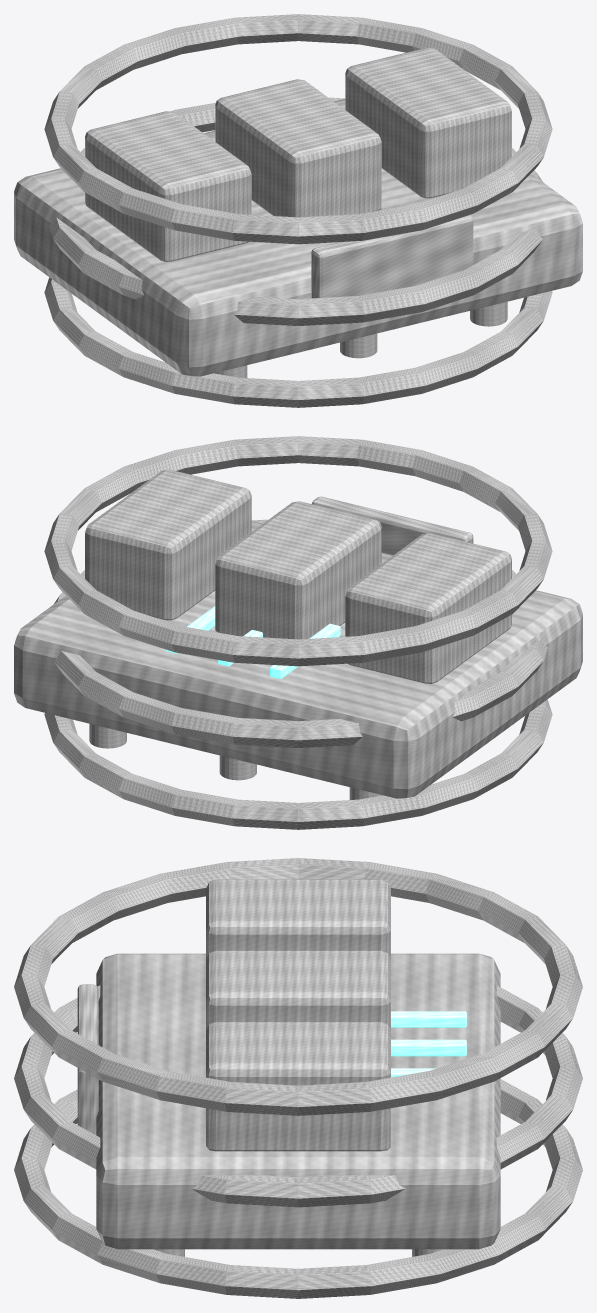
The model's file is item-biochemical-sculptor_variant_c.glb.
3 renders of one model, top to bottom at view 1: azimuth 30°, elevation 25°; view 2: azimuth 150°, elevation 25°; view 3: azimuth 270°, elevation 25°, orthographic. The views are drawn at different scales.
Visible parts, largest first — view 1: Electronics carrier.002, Variant collar.002, Electronic module.008, Electronic module.007, Variant collar, Electronic module.006, Variant collar.001, Circuit display.003, Connector pin.017, Connector pin.015; view 2: Electronics carrier.002, Variant collar.002, Electronic module.008, Electronic module.007, Variant collar, Electronic module.006, Variant collar.001, Circuit display.003, Connector pin.018, Connector pin.016, Circuit trace.007; view 3: Electronics carrier.002, Variant collar.002, Variant collar, Electronic module.008, Variant collar.001, Electronic module.007, Electronic module.006, Circuit display.003, Circuit trace.008, Circuit trace.007.
Boxes of the visible parts, bbox=[...] form: Electronics carrier.002: bbox=[14, 99, 582, 376]; Variant collar.002: bbox=[44, 14, 552, 244]; Electronic module.008: bbox=[345, 47, 511, 198]; Electronic module.007: bbox=[215, 79, 381, 217]; Variant collar: bbox=[44, 277, 552, 407]; Electronic module.006: bbox=[85, 111, 251, 261]; Variant collar.001: bbox=[49, 97, 543, 325]; Circuit display.003: bbox=[311, 215, 473, 298]; Connector pin.017: bbox=[470, 301, 507, 326]; Connector pin.015: bbox=[340, 333, 377, 358]; Electronics carrier.002: bbox=[14, 521, 582, 798]; Variant collar.002: bbox=[44, 436, 552, 666]; Electronic module.008: bbox=[85, 469, 251, 620]; Electronic module.007: bbox=[215, 501, 381, 639]; Variant collar: bbox=[44, 699, 552, 829]; Electronic module.006: bbox=[345, 533, 511, 683]; Variant collar.001: bbox=[53, 519, 547, 747]; Circuit display.003: bbox=[312, 496, 473, 555]; Connector pin.018: bbox=[89, 723, 126, 748]; Connector pin.016: bbox=[219, 755, 256, 780]; Circuit trace.007: bbox=[270, 623, 340, 678]; Electronics carrier.002: bbox=[96, 953, 500, 1249]; Variant collar.002: bbox=[14, 858, 582, 1115]; Variant collar: bbox=[14, 1079, 582, 1298]; Electronic module.008: bbox=[206, 1022, 390, 1151]; Variant collar.001: bbox=[14, 985, 582, 1207]; Electronic module.007: bbox=[206, 950, 390, 1030]; Electronic module.006: bbox=[206, 879, 390, 959]; Circuit display.003: bbox=[77, 984, 98, 1134]; Circuit trace.008: bbox=[391, 1039, 466, 1056]; Circuit trace.007: bbox=[391, 1011, 466, 1027].
Size of what is drawn, in the model's own units: 0.676 by 0.28 by 0.676.
Materials: 6 (6 with a texture image).
